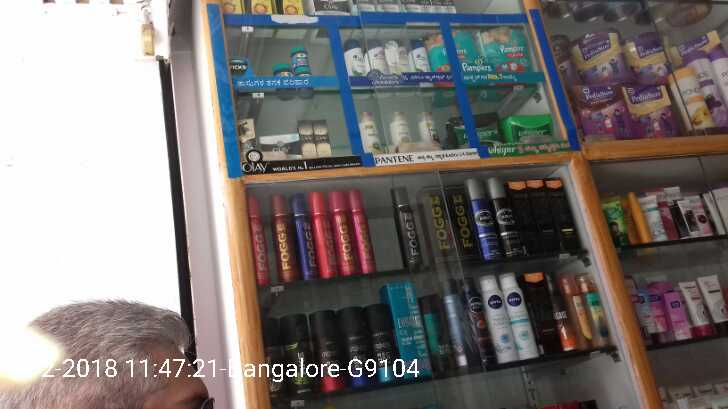vicks: (272, 42, 311, 78)
